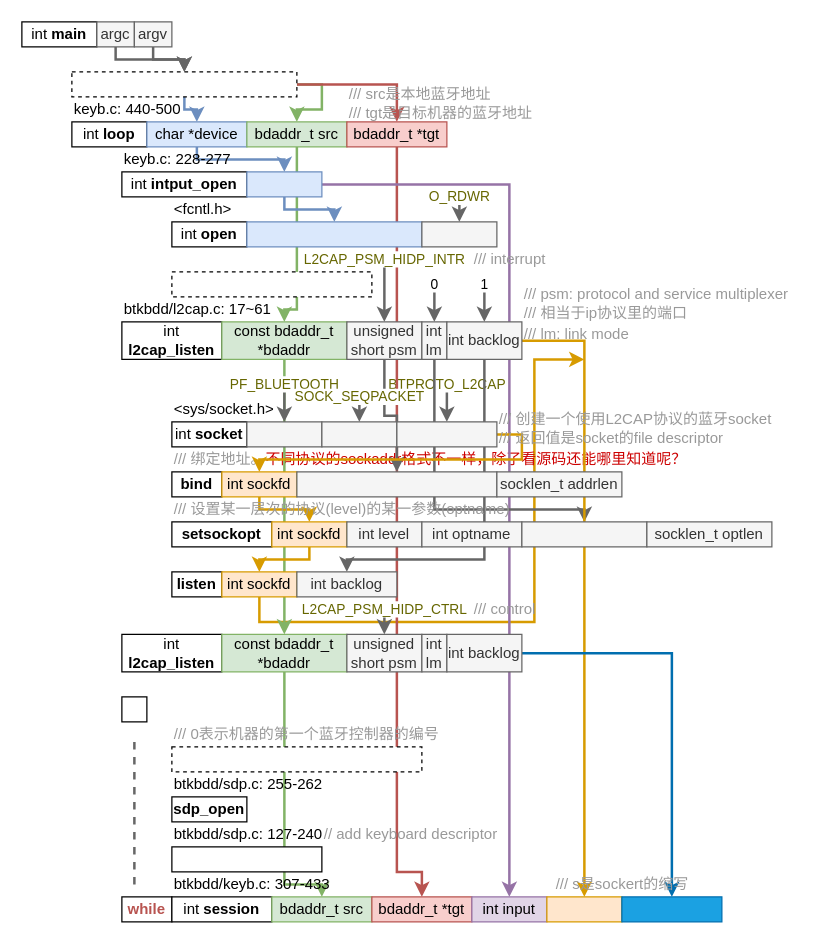
This 831x944 diagram has some shape labels left out. Each missing label, with the centre of its shape:
"char *dev" goes at [284,184].
"const char *pathname" goes at [334,234].
"const struct sockaddr *addr" goes at [396,484].
"const void *optval" goes at [584,534].
"do" goes at [134,709].
"int domain" goes at [284,434].
"int flags" goes at [459,234].
"int protocol" goes at [446,434].
"int scontrol" goes at [671,909].
"int sintr" goes at [584,909].
"int type" goes at [359,434].
"sdp_add_keyboard" goes at [246,859].
"处理argv，device参数交给loop" goes at [184,84].
"用ioctl获取/dev/input/eventX" goes at [271,284].
"获取本地蓝牙控制器接口的编号(hci)" goes at [296,759].
